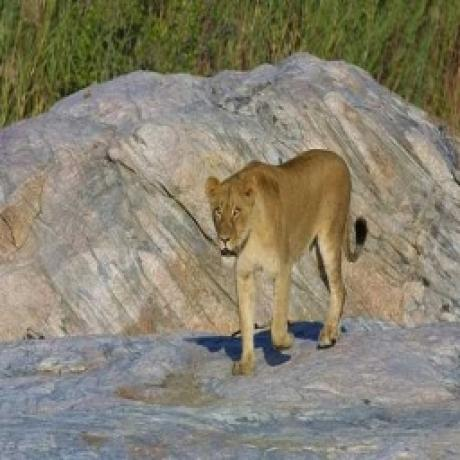Lion: (199, 146, 376, 367)
